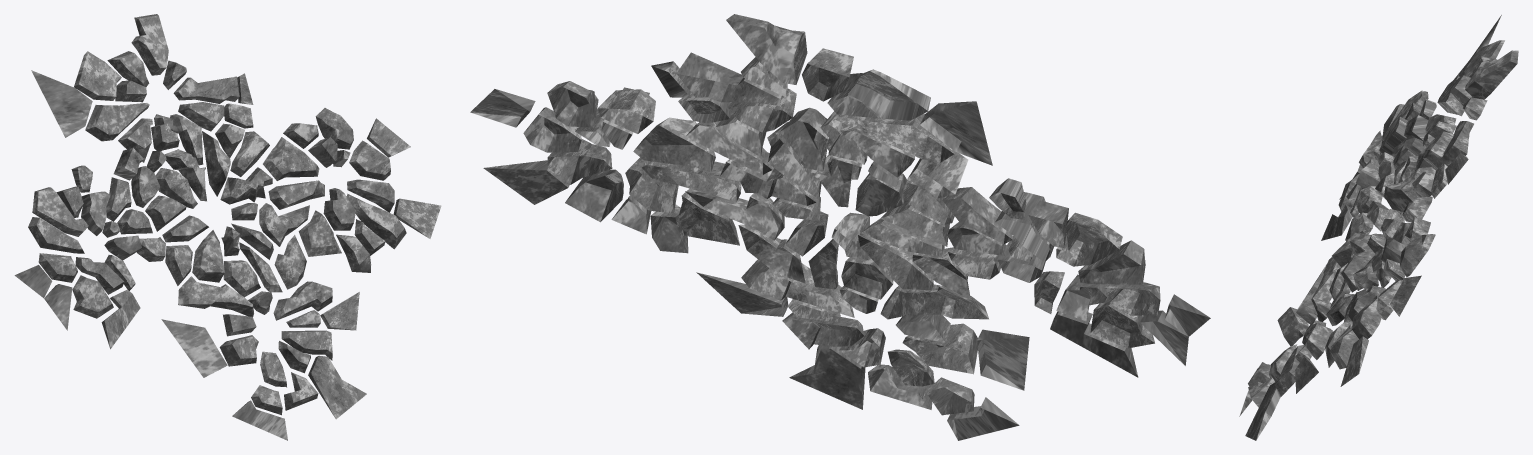
Rendered from eff_GroundRock01.fbx.
The picture shows the model from 3 angles, left to right: view 1: azimuth 30°, elevation 25°; view 2: azimuth 150°, elevation 25°; view 3: azimuth 270°, elevation 25°; orthographic projection. The views are drawn at different scales.
Parts seen in each view (by area): view 1: eff_GroundRock0104_msh, eff_GroundRock0105_msh, eff_GroundRock0106_msh, eff_GroundRock0102_msh, eff_GroundRock0101_msh, eff_GroundRock0103_msh; view 2: eff_GroundRock0104_msh, eff_GroundRock0105_msh, eff_GroundRock0106_msh, eff_GroundRock0102_msh, eff_GroundRock0101_msh, eff_GroundRock0103_msh; view 3: eff_GroundRock0105_msh, eff_GroundRock0104_msh, eff_GroundRock0106_msh, eff_GroundRock0102_msh, eff_GroundRock0101_msh, eff_GroundRock0103_msh.
Boxes of the visible parts, x1=… form: eff_GroundRock0104_msh: x1=32, y1=51, x2=394, y2=387; eff_GroundRock0105_msh: x1=28, y1=14, x2=406, y2=415; eff_GroundRock0106_msh: x1=14, y1=51, x2=441, y2=440; eff_GroundRock0102_msh: x1=117, y1=131, x2=319, y2=297; eff_GroundRock0101_msh: x1=162, y1=149, x2=273, y2=282; eff_GroundRock0103_msh: x1=145, y1=131, x2=282, y2=292; eff_GroundRock0104_msh: x1=547, y1=48, x2=1160, y2=386; eff_GroundRock0105_msh: x1=523, y1=14, x2=1145, y2=415; eff_GroundRock0106_msh: x1=470, y1=61, x2=1210, y2=440; eff_GroundRock0102_msh: x1=633, y1=117, x2=1005, y2=299; eff_GroundRock0101_msh: x1=720, y1=152, x2=944, y2=289; eff_GroundRock0103_msh: x1=767, y1=121, x2=949, y2=289; eff_GroundRock0105_msh: x1=1248, y1=50, x2=1518, y2=407; eff_GroundRock0104_msh: x1=1269, y1=56, x2=1491, y2=381; eff_GroundRock0106_msh: x1=1239, y1=15, x2=1504, y2=440; eff_GroundRock0102_msh: x1=1329, y1=160, x2=1432, y2=299; eff_GroundRock0101_msh: x1=1332, y1=156, x2=1418, y2=292; eff_GroundRock0103_msh: x1=1329, y1=167, x2=1435, y2=309.
Bounding box in the file's own units: 32.91 × 25.14 × 17.91.
